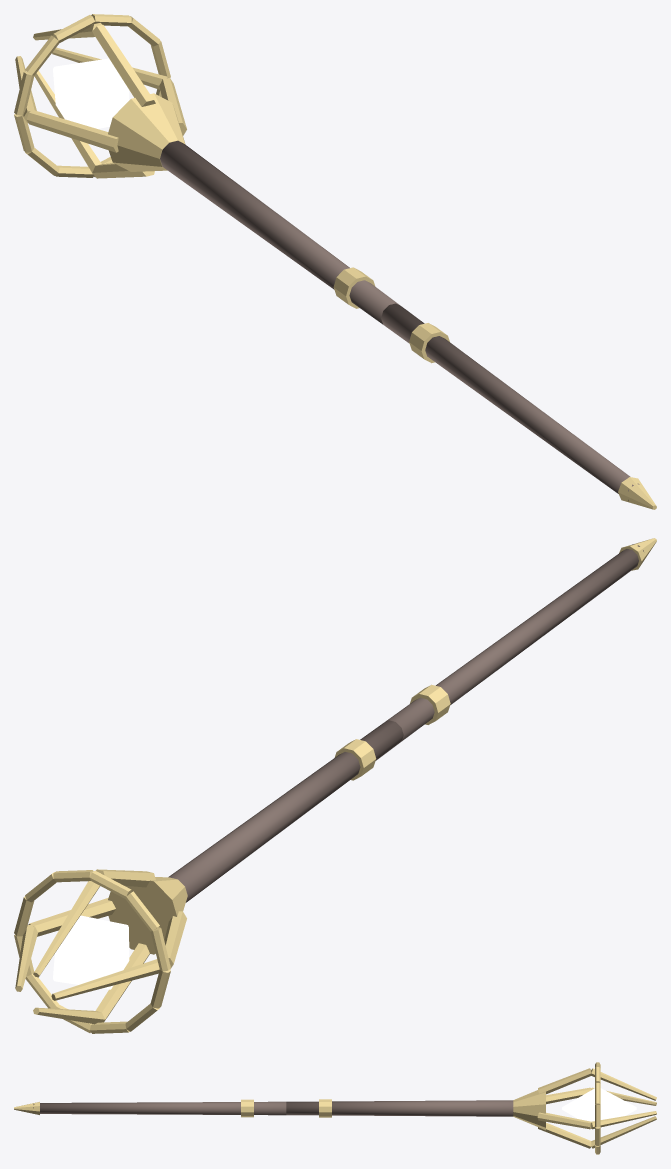
Rendered from Mage_ArcaneStaff.fbx.
The picture shows the model from 3 angles, top to bottom: view 1: azimuth 30°, elevation 25°; view 2: azimuth 150°, elevation 25°; view 3: azimuth 270°, elevation 25°; orthographic projection. The views are drawn at different scales.
Visible parts, largest first — view 1: MageStaff_GothicCrown, MageStaff_Shaft, MageStaff_ArcaneCrystal; view 2: MageStaff_GothicCrown, MageStaff_Shaft, MageStaff_ArcaneCrystal; view 3: MageStaff_Shaft, MageStaff_GothicCrown, MageStaff_ArcaneCrystal.
Boxes of the visible parts, x1,y1,x2,y2 form: MageStaff_GothicCrown: [14, 14, 656, 509]; MageStaff_Shaft: [160, 140, 639, 501]; MageStaff_ArcaneCrystal: [53, 58, 129, 128]; MageStaff_GothicCrown: [14, 538, 656, 1033]; MageStaff_Shaft: [168, 544, 643, 902]; MageStaff_ArcaneCrystal: [53, 915, 129, 989]; MageStaff_Shaft: [33, 1100, 513, 1116]; MageStaff_GothicCrown: [14, 1062, 656, 1154]; MageStaff_ArcaneCrystal: [562, 1088, 636, 1128].
Bounding box in the file's own units: 0.2851 × 0.2851 × 1.98.
